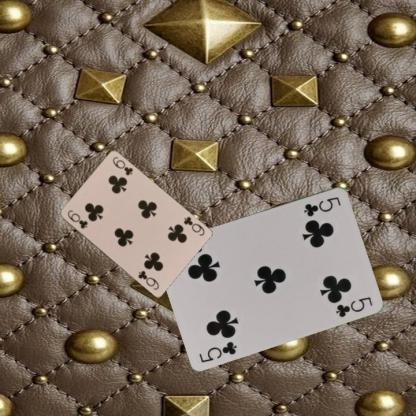5c: (196, 338, 238, 363), (301, 193, 342, 218)
6c: (181, 214, 206, 237), (65, 207, 89, 230)
